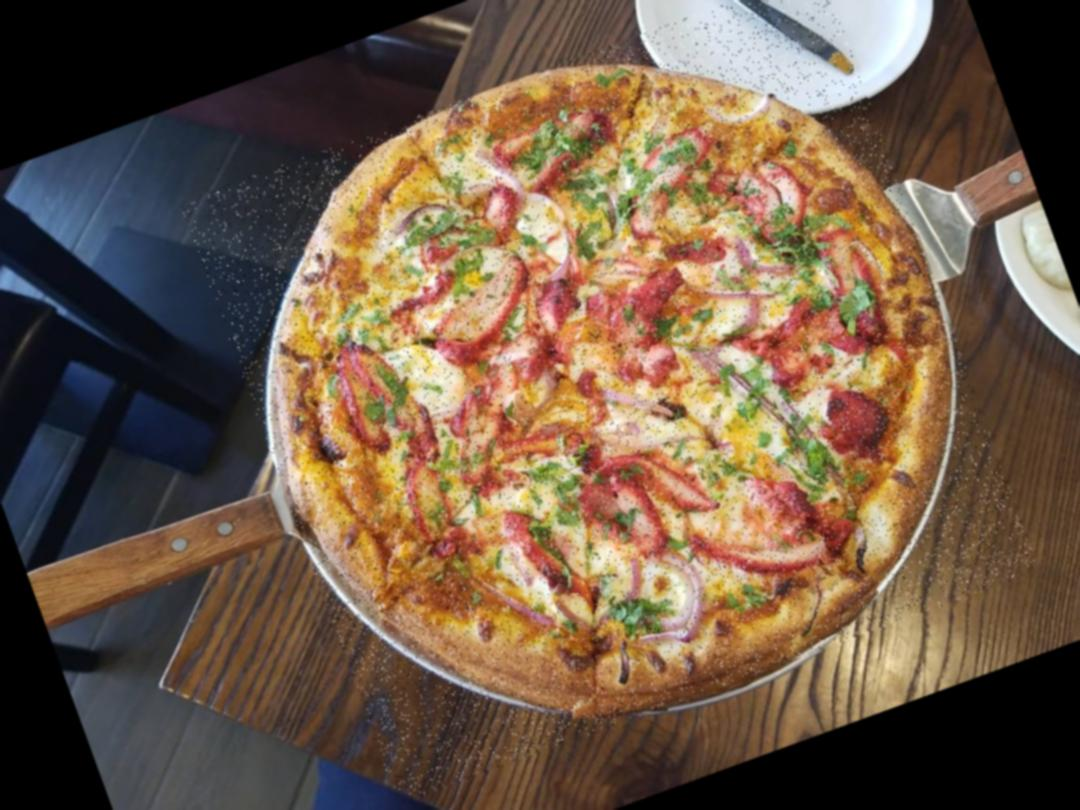Onion: (692, 324, 804, 468), (775, 383, 866, 528), (620, 544, 722, 654), (476, 560, 562, 650), (689, 256, 786, 328), (598, 366, 681, 441), (698, 82, 784, 144), (732, 222, 798, 293), (467, 136, 532, 206), (499, 364, 570, 426), (581, 178, 636, 254), (520, 176, 576, 236), (390, 195, 461, 241), (536, 222, 588, 284), (718, 294, 771, 339), (556, 592, 602, 642), (620, 555, 652, 604)
Pizza: (180, 0, 1041, 804)
